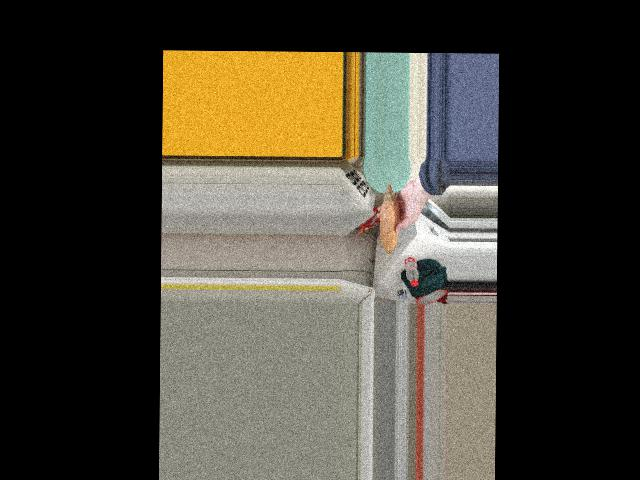sweet_potato: (382, 192, 398, 244)
